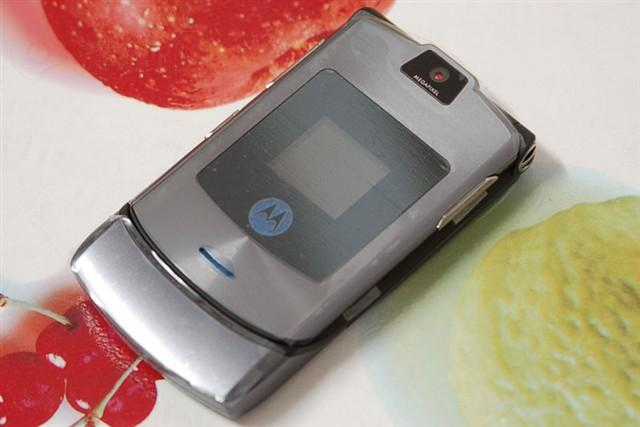phone: (125, 23, 532, 376)
